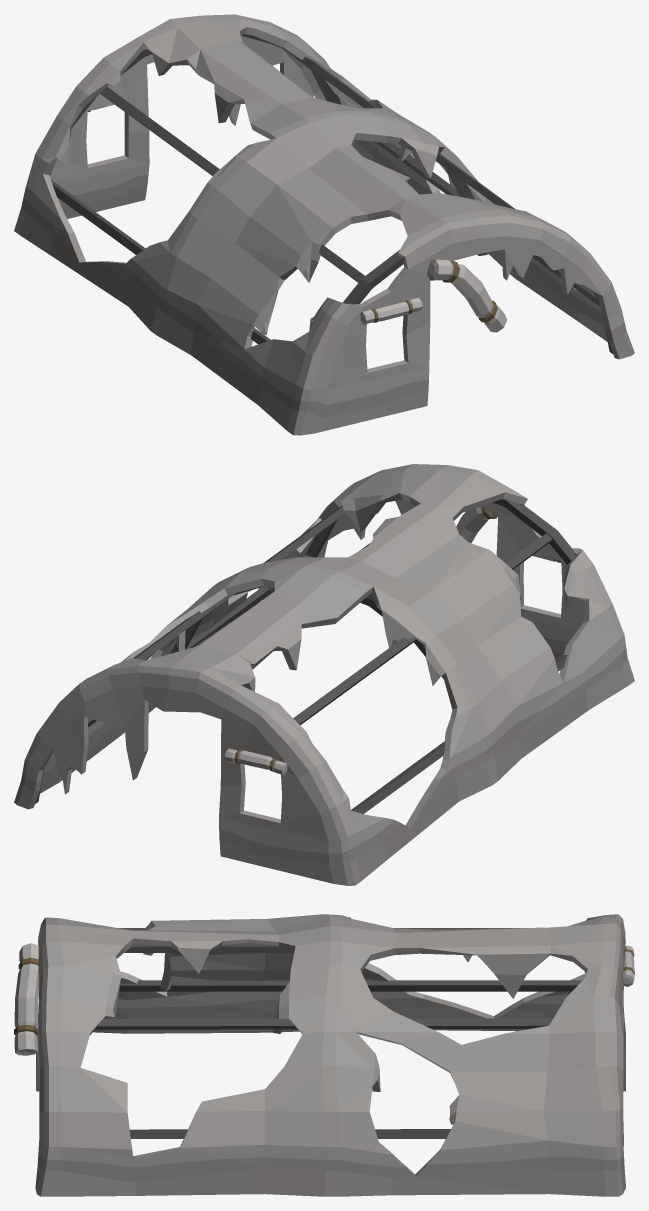
The model's file is SM_Bld_Tent_Refugee_Damaged_01.fbx.
The picture shows the model from 3 angles, top to bottom: view 1: azimuth 30°, elevation 25°; view 2: azimuth 150°, elevation 25°; view 3: azimuth 270°, elevation 25°; orthographic projection. The views are drawn at different scales.
Parts seen in each view (by area): view 1: SM_Bld_Tent_Refugee_Damaged_01; view 2: SM_Bld_Tent_Refugee_Damaged_01; view 3: SM_Bld_Tent_Refugee_Damaged_01.
Part boxes in pixels (box(x1,y1,x2,y2)): SM_Bld_Tent_Refugee_Damaged_01: box(14, 14, 634, 435); SM_Bld_Tent_Refugee_Damaged_01: box(14, 464, 634, 885); SM_Bld_Tent_Refugee_Damaged_01: box(14, 914, 634, 1196).
Bounding box in the file's own units: 592 × 293 × 907.
